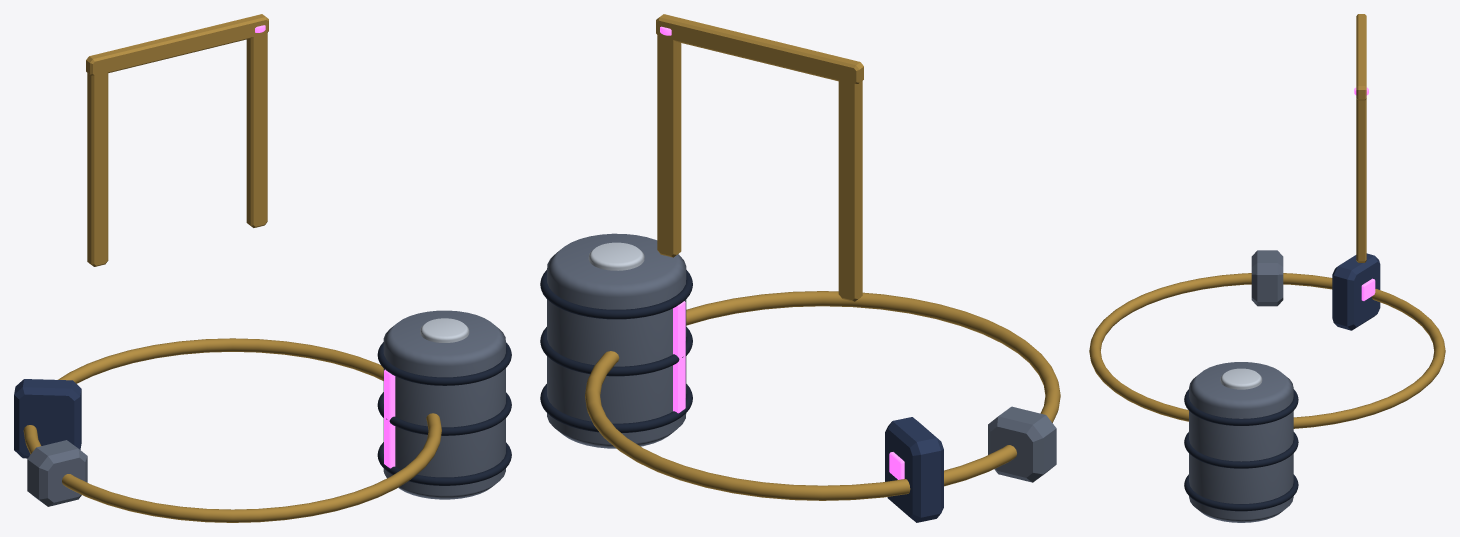
File: tower_arc_rate_s5.glb
The picture shows the model from 3 angles, left to right: view 1: azimuth 30°, elevation 25°; view 2: azimuth 150°, elevation 25°; view 3: azimuth 270°, elevation 25°; orthographic projection. The views are drawn at different scales.
Visible parts, largest first — view 1: arc_supercap, arc_coolant_loop, arc_meter_box, arc_bus_bar_r, arc_bus_bar_l, arc_bus_bridge, arc_coolant_pump, arc_supercap_rib0.18, arc_supercap_rib0, arc_supercap_rib-0.18, arc_supercap_gauge, arc_supercap_cap; view 2: arc_supercap, arc_coolant_loop, arc_bus_bar_r, arc_bus_bar_l, arc_bus_bridge, arc_meter_box, arc_coolant_pump, arc_supercap_rib0.18, arc_supercap_rib0, arc_supercap_rib-0.18, arc_supercap_gauge, arc_supercap_cap; view 3: arc_supercap, arc_coolant_loop, arc_meter_box, arc_bus_bar_l, arc_coolant_pump, arc_supercap_rib0.18, arc_supercap_rib-0.18, arc_supercap_rib0, arc_bus_bridge, arc_supercap_cap.
Boxes of the visible parts, x1=… form: arc_supercap: x1=383, y1=310, x2=505, y2=499; arc_coolant_loop: x1=23, y1=338, x2=441, y2=522; arc_meter_box: x1=14, y1=379, x2=81, y2=458; arc_bus_bar_r: x1=87, y1=69, x2=108, y2=266; arc_bus_bar_l: x1=246, y1=31, x2=267, y2=227; arc_bus_bridge: x1=86, y1=14, x2=268, y2=75; arc_coolant_pump: x1=27, y1=440, x2=87, y2=506; arc_supercap_rib0.18: x1=377, y1=342, x2=511, y2=385; arc_supercap_rib0: x1=377, y1=392, x2=511, y2=435; arc_supercap_rib-0.18: x1=377, y1=442, x2=511, y2=485; arc_supercap_gauge: x1=384, y1=369, x2=395, y2=468; arc_supercap_cap: x1=420, y1=318, x2=469, y2=342; arc_supercap: x1=547, y1=233, x2=686, y2=448; arc_coolant_loop: x1=585, y1=291, x2=1060, y2=500; arc_bus_bar_r: x1=838, y1=76, x2=862, y2=301; arc_bus_bar_l: x1=657, y1=32, x2=681, y2=257; arc_bus_bridge: x1=656, y1=14, x2=863, y2=83; arc_meter_box: x1=885, y1=417, x2=943, y2=522; arc_coolant_pump: x1=988, y1=406, x2=1056, y2=482; arc_supercap_rib0.18: x1=540, y1=270, x2=692, y2=319; arc_supercap_rib0: x1=540, y1=327, x2=692, y2=376; arc_supercap_rib-0.18: x1=540, y1=384, x2=692, y2=432; arc_supercap_gauge: x1=673, y1=301, x2=685, y2=413; arc_supercap_cap: x1=588, y1=242, x2=644, y2=270; arc_supercap: x1=1189, y1=362, x2=1293, y2=522; arc_coolant_loop: x1=1089, y1=273, x2=1445, y2=428; arc_meter_box: x1=1332, y1=253, x2=1380, y2=330; arc_bus_bar_l: x1=1356, y1=99, x2=1366, y2=262; arc_coolant_pump: x1=1251, y1=250, x2=1283, y2=306; arc_supercap_rib0.18: x1=1184, y1=389, x2=1298, y2=425; arc_supercap_rib-0.18: x1=1184, y1=474, x2=1298, y2=511; arc_supercap_rib0: x1=1184, y1=432, x2=1298, y2=468; arc_bus_bridge: x1=1356, y1=14, x2=1366, y2=100; arc_supercap_cap: x1=1220, y1=368, x2=1262, y2=389.
Size of the model in its own units: 1.71 by 1.59 by 1.36.
